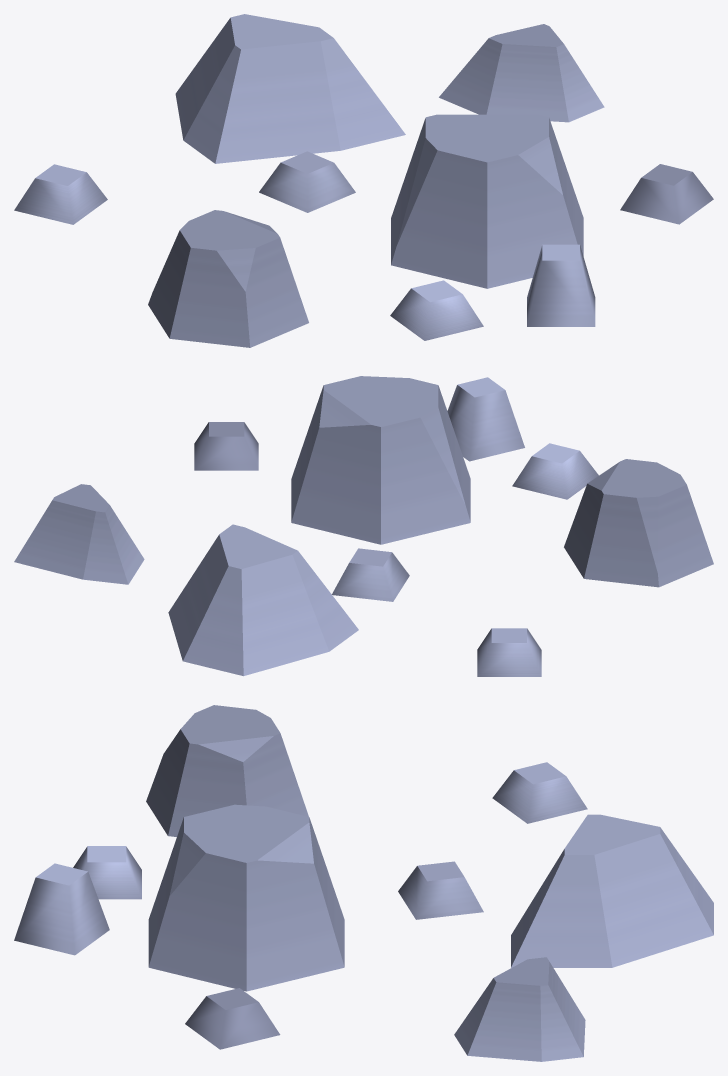
The model's file is mediumrocks_decorations.fbx.
3 views of the same model, one above another, from view 1: azimuth 30°, elevation 25°; view 2: azimuth 150°, elevation 25°; view 3: azimuth 270°, elevation 25° (orthographic). The views are drawn at different scales.
Parts seen in each view (by area): view 1: water_rocks; view 2: water_rocks; view 3: water_rocks.
Boxes of the visible parts, bbox=[...] form: water_rocks: bbox=[14, 14, 713, 347]; water_rocks: bbox=[14, 376, 713, 676]; water_rocks: bbox=[14, 705, 713, 1061].
Bounding box in the file's own units: 87.72 × 15.93 × 90.78.
